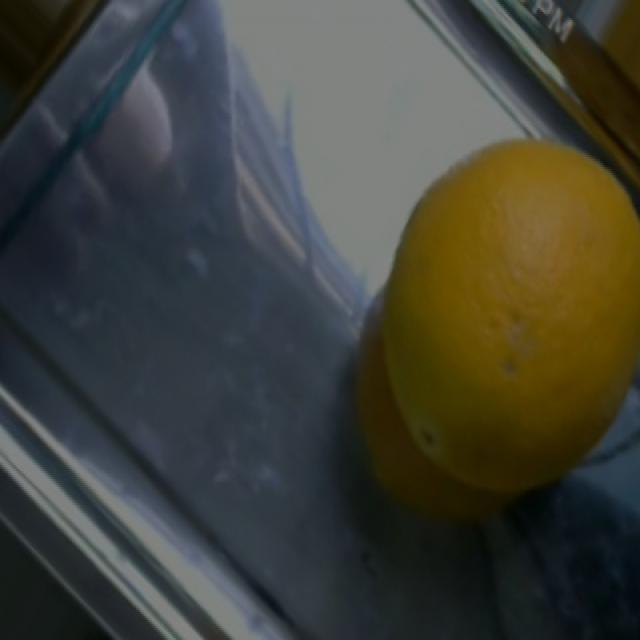Fruit: (378, 115, 638, 414), (581, 0, 640, 131)
